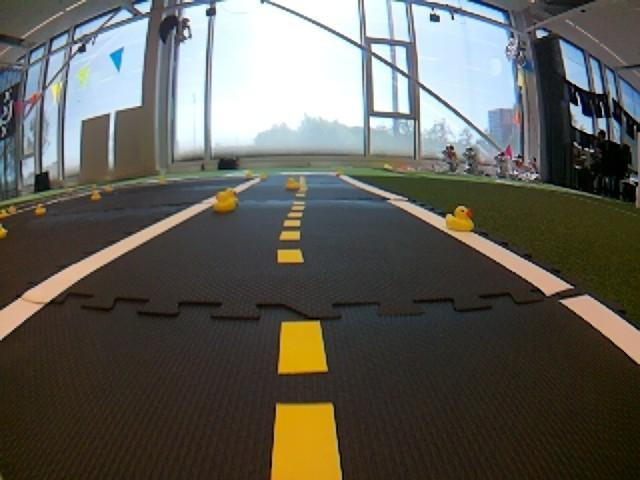Duckies: (446, 206, 473, 231), (212, 192, 237, 211), (287, 177, 301, 189), (0, 223, 8, 239), (35, 204, 47, 214), (90, 190, 101, 200), (0, 207, 9, 218), (8, 204, 17, 214), (245, 171, 253, 178), (104, 186, 113, 192), (260, 172, 267, 179), (159, 178, 167, 183)
